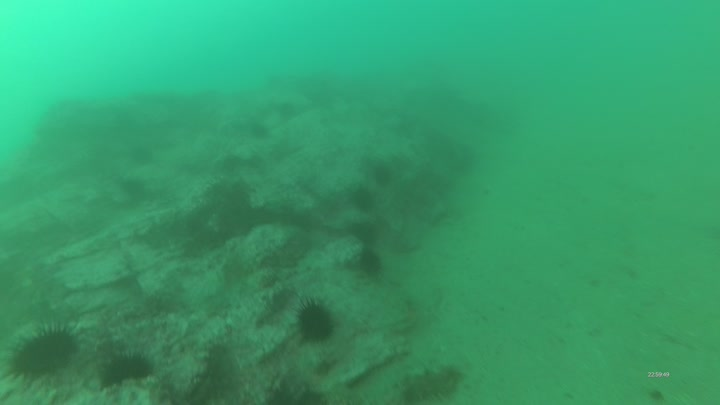echinus: (6, 320, 92, 379), (290, 296, 338, 346), (98, 352, 160, 389), (353, 185, 378, 214), (358, 249, 384, 273), (373, 165, 390, 187)
holothurian: (387, 371, 466, 405)
